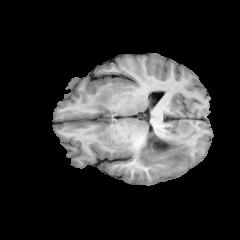glioma: (102, 134, 192, 169)
